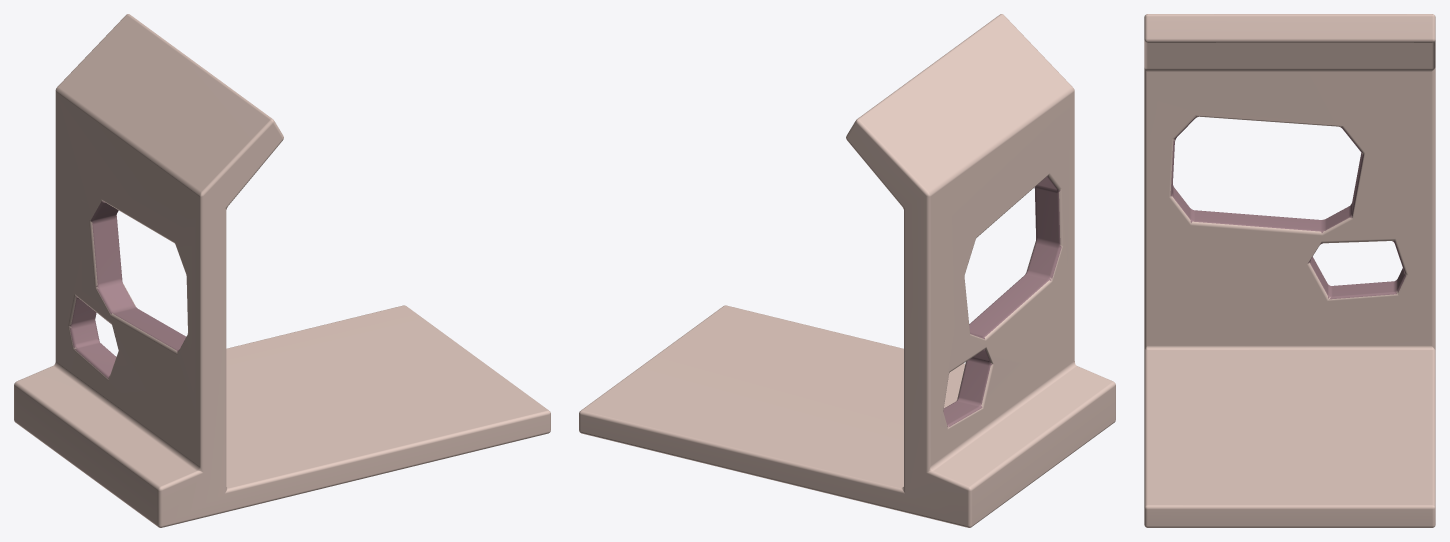
Rendered from cleft-fold-bookend.glb.
3 views of the same model, side by side, from view 1: azimuth 30°, elevation 25°; view 2: azimuth 150°, elevation 25°; view 3: azimuth 270°, elevation 25° (orthographic).
Parts seen in each view (by area): view 1: single_piece_folding_bookend; view 2: single_piece_folding_bookend; view 3: single_piece_folding_bookend.
Part boxes in pixels (bbox=[...]): single_piece_folding_bookend: bbox=[14, 14, 550, 527]; single_piece_folding_bookend: bbox=[579, 14, 1115, 527]; single_piece_folding_bookend: bbox=[1144, 14, 1435, 527].
Size of the model in its own units: 161 by 149 by 104.
